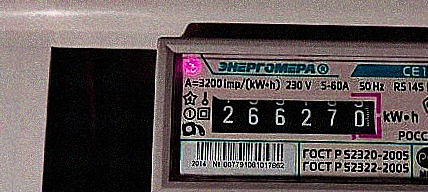0: (352, 107, 364, 128)
2: (220, 103, 235, 124), (299, 106, 311, 127)
6: (246, 105, 259, 126), (272, 106, 285, 125)
7: (324, 106, 337, 128)
screen: (201, 84, 389, 146)
